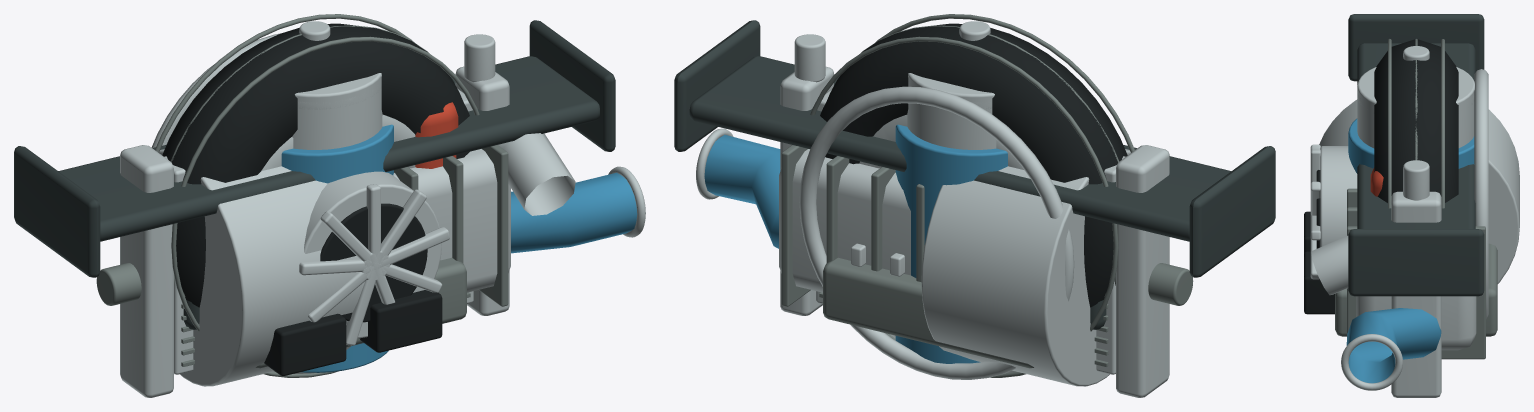
File: parts.glb
The picture shows the model from 3 angles, left to right: view 1: azimuth 30°, elevation 25°; view 2: azimuth 150°, elevation 25°; view 3: azimuth 270°, elevation 25°; orthographic projection. The views are drawn at different scales.
Parts seen in each view (by area): view 1: Performance tire, Bell housing, Carbon wing, Radiator end tank, Wing endplate, Gearbox case, Bent tailpipe, Paint cup, Compressor inlet, Wing endplate.001, Nitrous bottle, Charge pipe (+24 smaller); view 2: Bell housing, Performance tire, Carbon wing, Forged inner lip, Radiator end tank, Gearbox case, Wing endplate, ECU housing, Nitrous bottle, Bent tailpipe, Wing endplate.001, Paint cup (+13 smaller); view 3: Performance tire, Wing endplate.001, Bell housing, Carbon wing, Bent tailpipe, Wing endplate, Radiator end tank.001, Compressor inlet, Forged inner lip, Paint cup, Gearbox case, Charge pipe (+19 smaller).
Boxes of the visible parts, <box> form: Performance tire: <box>162,23,469,307</box>; Bell housing: <box>159,149,364,386</box>; Carbon wing: <box>58,56,599,241</box>; Radiator end tank: <box>120,145,173,397</box>; Wing endplate: <box>14,146,100,277</box>; Gearbox case: <box>393,149,510,292</box>; Bent tailpipe: <box>511,172,637,253</box>; Paint cup: <box>292,73,382,149</box>; Compressor inlet: <box>304,171,441,338</box>; Wing endplate.001: <box>529,20,615,151</box>; Nitrous bottle: <box>281,124,393,372</box>; Charge pipe: <box>498,133,575,215</box>; Bell housing: <box>921,149,1130,386</box>; Performance tire: <box>820,23,1127,307</box>; Carbon wing: <box>689,56,1231,241</box>; Forged inner lip: <box>799,86,1074,379</box>; Radiator end tank: <box>1116,145,1169,397</box>; Gearbox case: <box>779,149,910,292</box>; Wing endplate: <box>1189,146,1275,277</box>; ECU housing: <box>823,257,1033,368</box>; Nitrous bottle: <box>895,124,1007,363</box>; Bent tailpipe: <box>704,134,780,248</box>; Wing endplate.001: <box>674,20,760,151</box>; Paint cup: <box>907,73,996,149</box>; Performance tire: <box>1374,39,1458,202</box>; Wing endplate.001: <box>1348,229,1484,296</box>; Bell housing: <box>1319,99,1519,283</box>; Carbon wing: <box>1357,43,1475,228</box>; Bent tailpipe: <box>1346,308,1441,383</box>; Wing endplate: <box>1348,14,1484,81</box>; Radiator end tank.001: <box>1391,191,1441,397</box>; Compressor inlet: <box>1320,146,1357,247</box>; Forged inner lip: <box>1474,69,1488,319</box>; Paint cup: <box>1357,67,1474,148</box>; Gearbox case: <box>1356,296,1476,350</box>; Charge pipe: <box>1311,235,1348,295</box>.
Bounding box in the file's own units: 1.84 × 1.1 × 0.73.
